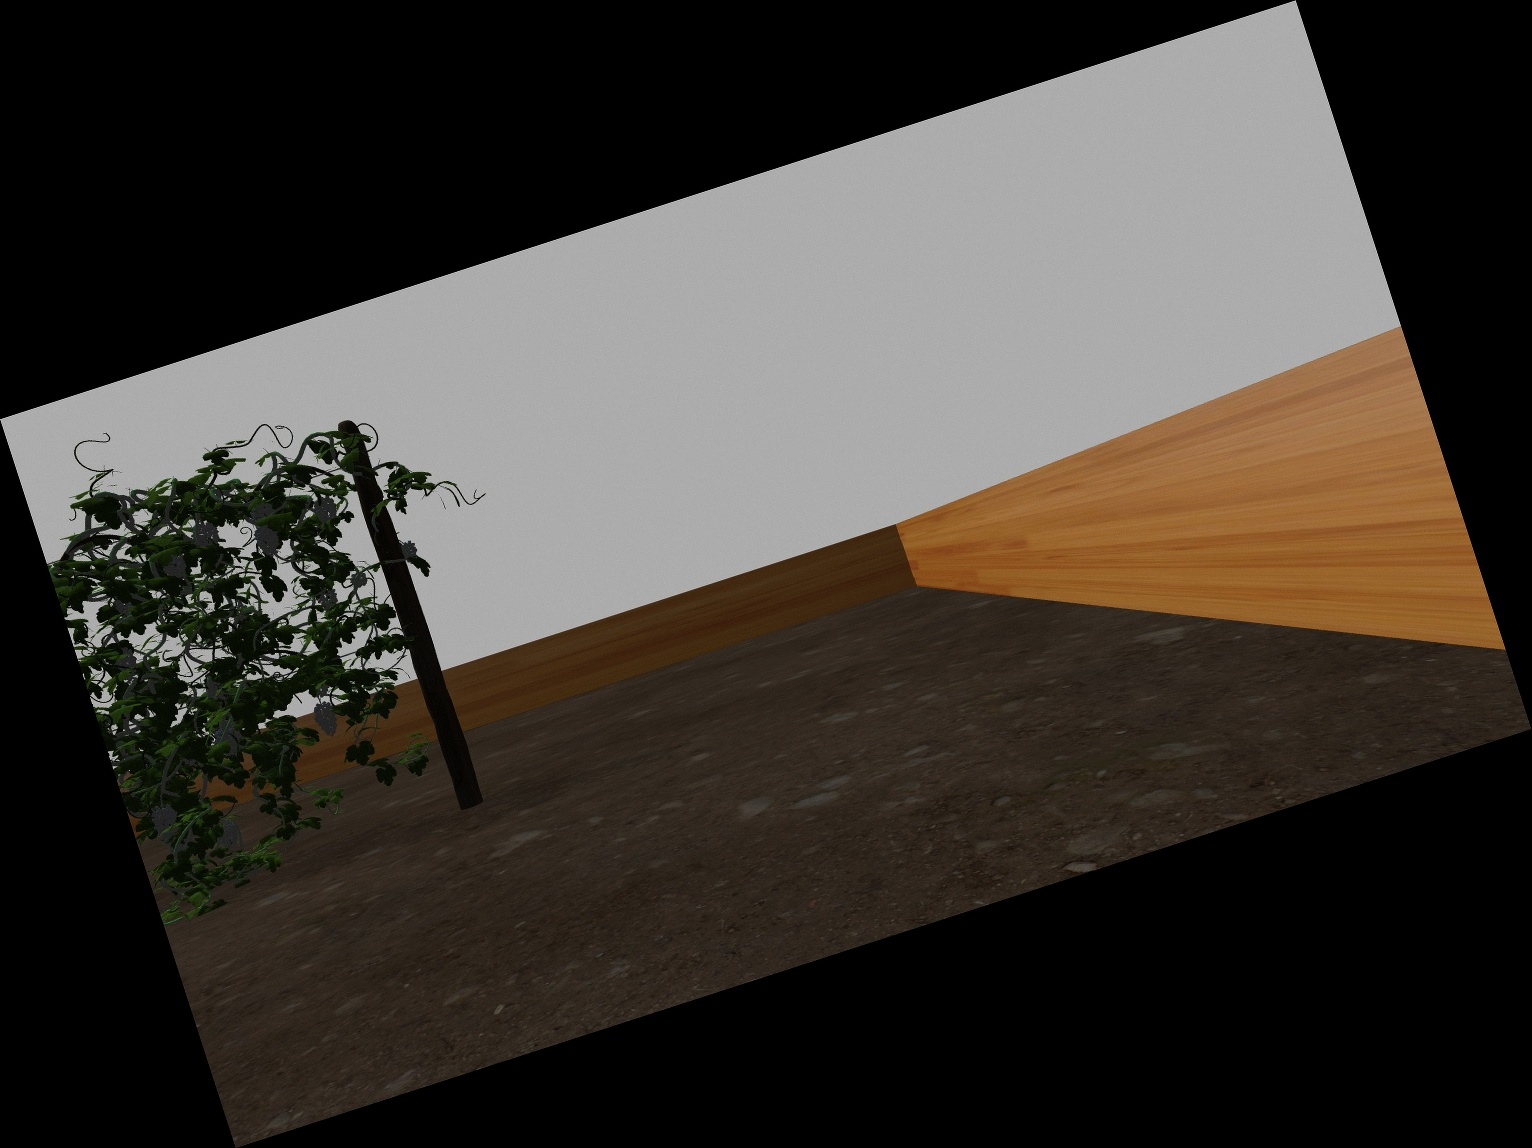grape: (153, 803, 180, 839), (316, 701, 339, 739), (256, 525, 280, 558), (163, 549, 186, 581), (316, 497, 337, 525), (221, 818, 239, 850), (194, 522, 218, 546), (319, 585, 337, 610), (350, 572, 368, 588), (403, 540, 417, 560)
